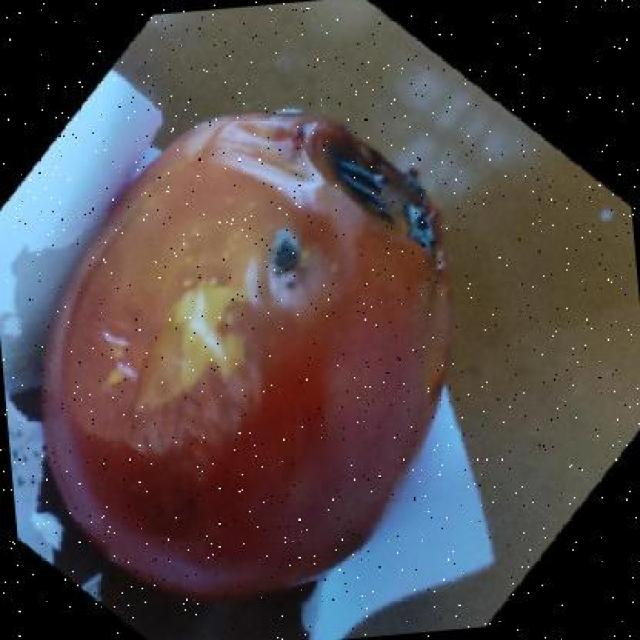overripe tomato: (36, 105, 463, 614)
